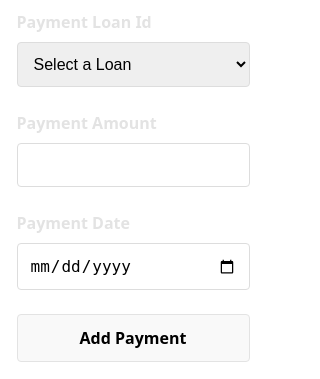
AddNewPayment › automatically calculates and sets payment amount when a loan is selected
Select "Tom's Loan - 10000 (5%)" in the dropdown labelled "Payment Loan Id" at {"x": 133, "y": 64}, box [16,42,250,87]
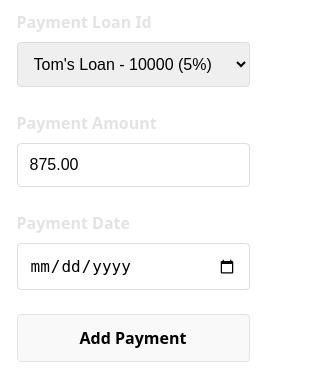
Now the number field labelled "Payment Amount" is not empty, box [16,143,250,187]
